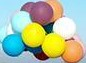Balloon: (30, 1, 54, 26), (21, 23, 45, 47), (42, 33, 65, 58), (2, 34, 25, 57), (53, 18, 76, 40), (63, 40, 84, 63)
